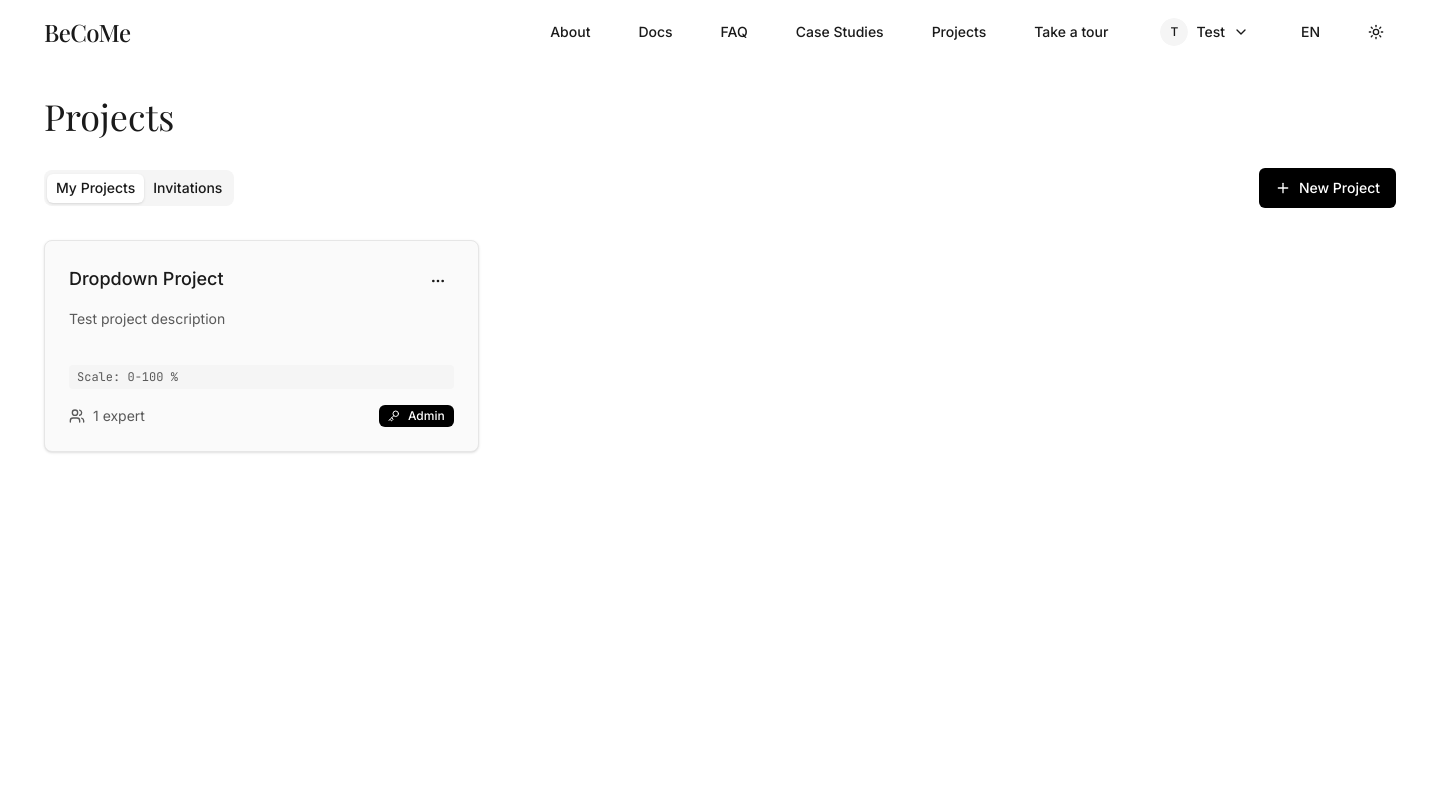
Test: Projects › Dropdown Menu › clicking Invite Expert opens InviteExpertModal
Expected: the link "Dropdown Project" is shown, [69,265,224,293]
Click the button named "project options".
click(438, 281)  # box [422,265,454,297]
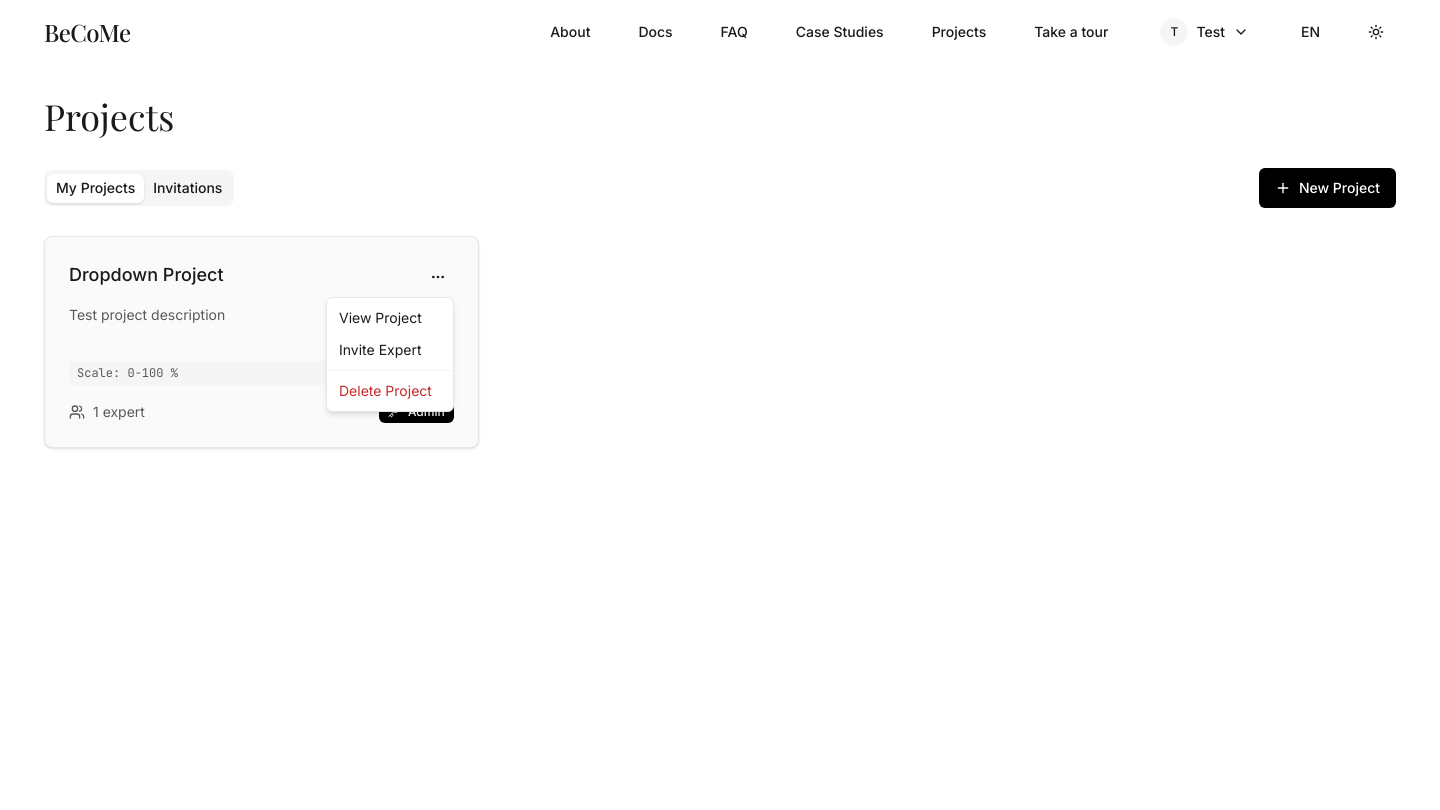
Click the menu item "Invite Expert".
click(380, 350)  # box [339,341,422,358]
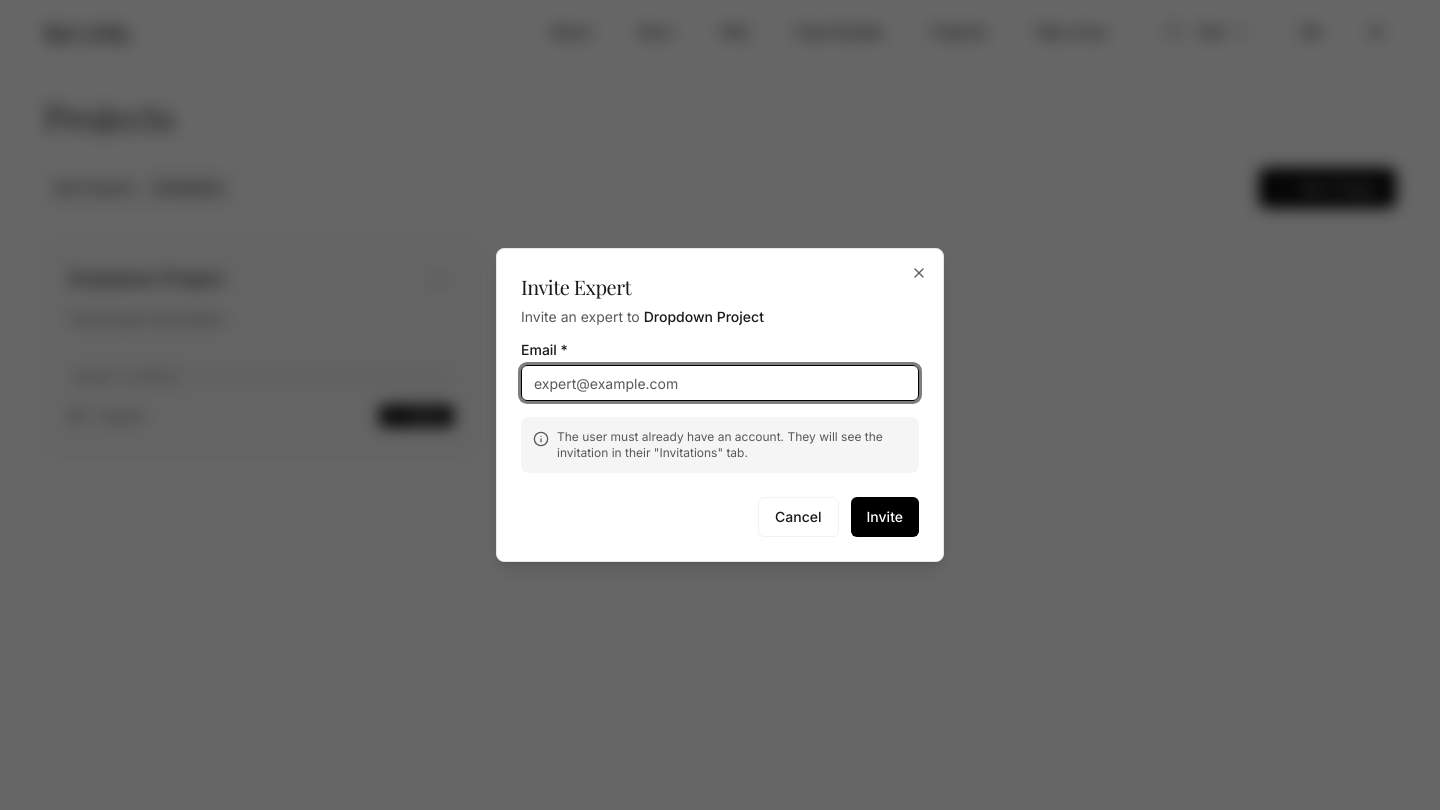
Expected: the dialog is shown, [496,248,944,562]
Expected: the text "Invite an expert to Dropdown Project" is shown, [521,308,764,325]
